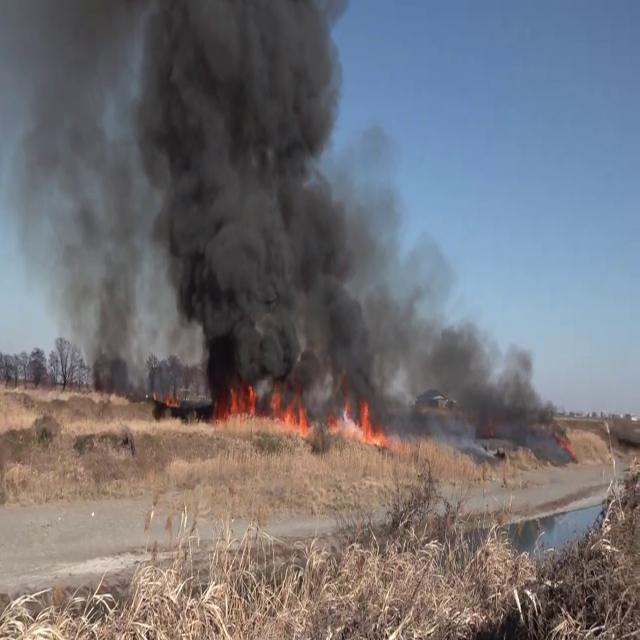Fire: (203, 372, 314, 434), (326, 390, 392, 448)
Smoke: (138, 0, 368, 400), (1, 1, 149, 378), (320, 245, 566, 439)
